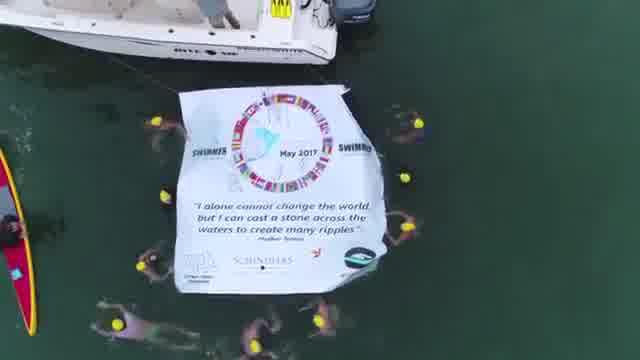human: (92, 298, 198, 356), (236, 316, 290, 360), (133, 250, 186, 288), (298, 300, 340, 338), (138, 118, 192, 143), (380, 211, 419, 245)
